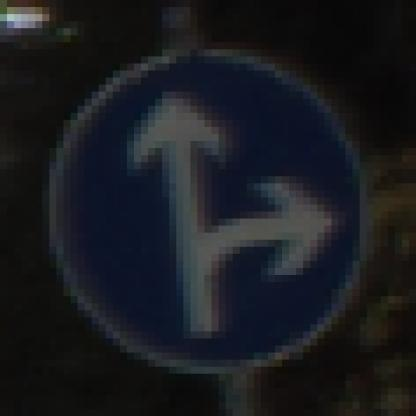Straight or Right: (43, 36, 382, 382)
